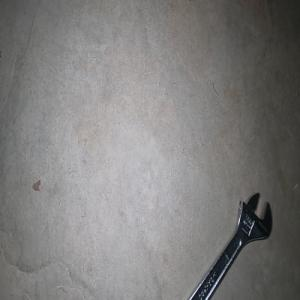Wrench: (188, 192, 271, 300)
